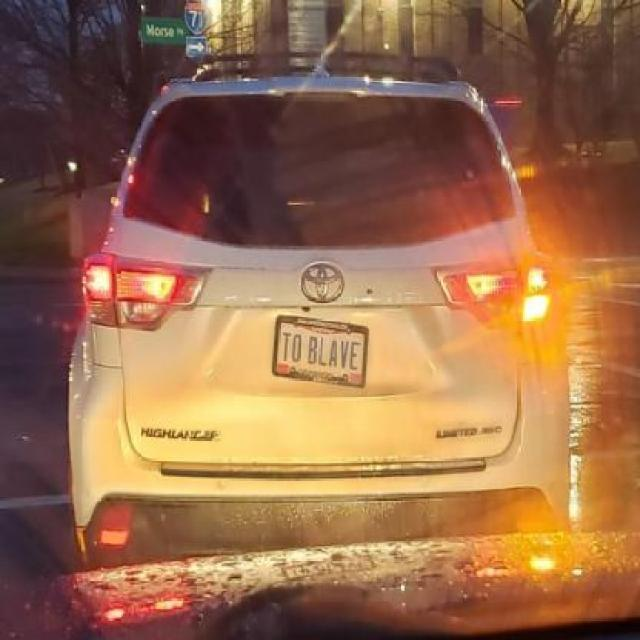LicensePlate: (270, 313, 369, 390)
